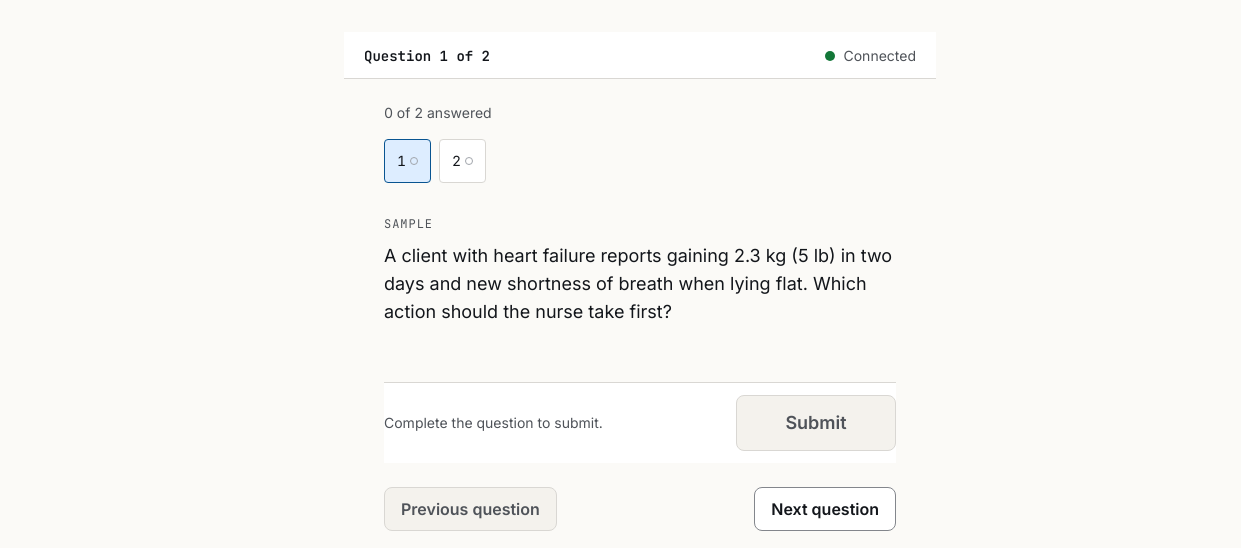
StudentPacedRoom in a quiz that plays case studies in place (#469) › shows the chart the entry on the screen carries, and none on a loose question
Expected: the element "Patient record" is not shown
Click the button "Next question".
click(825, 509)  # box [754, 487, 896, 531]
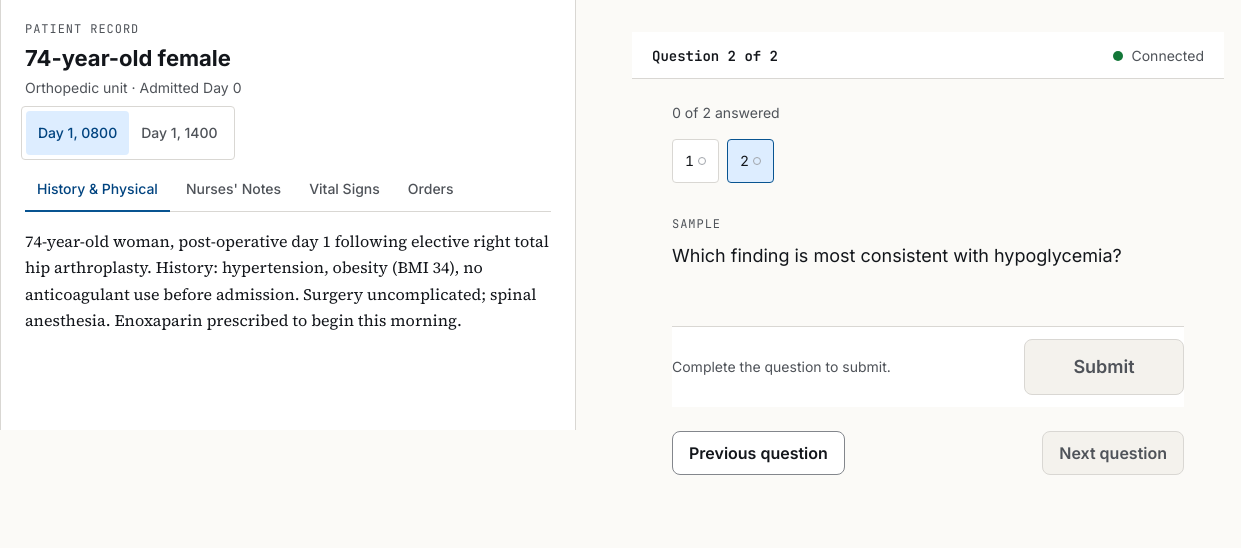
Now the element "Patient record" is shown, box [0, 0, 576, 430]
Now the text "Orthopedic unit · Admitted Day 0" is shown, box [25, 79, 242, 96]
Click the button "Previous question".
click(758, 453)  # box [672, 431, 845, 475]
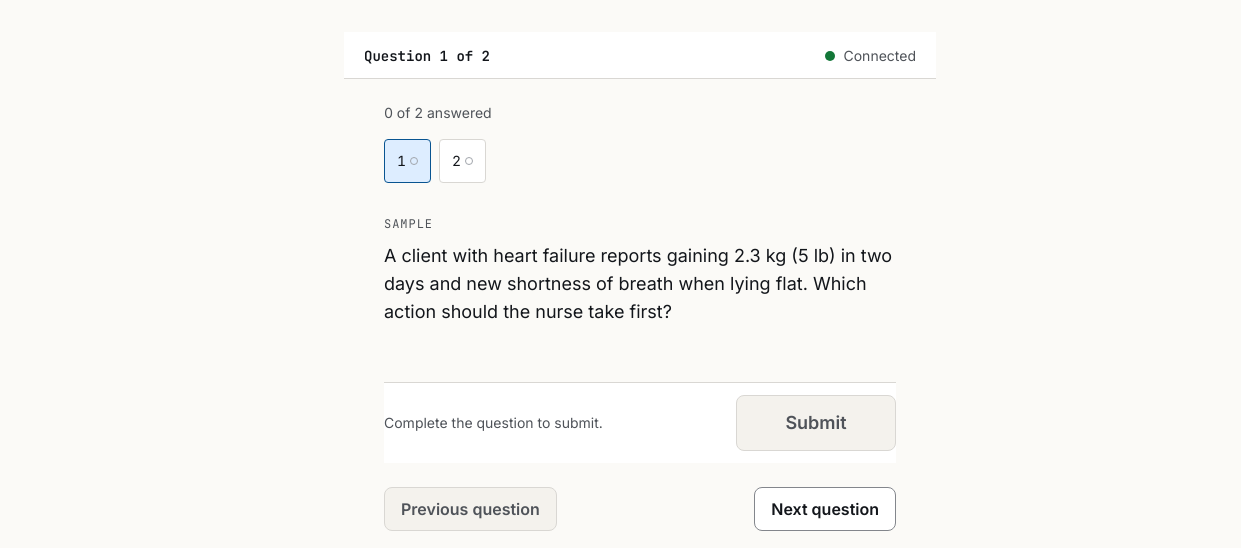
Now the text "Patient record" is gone
